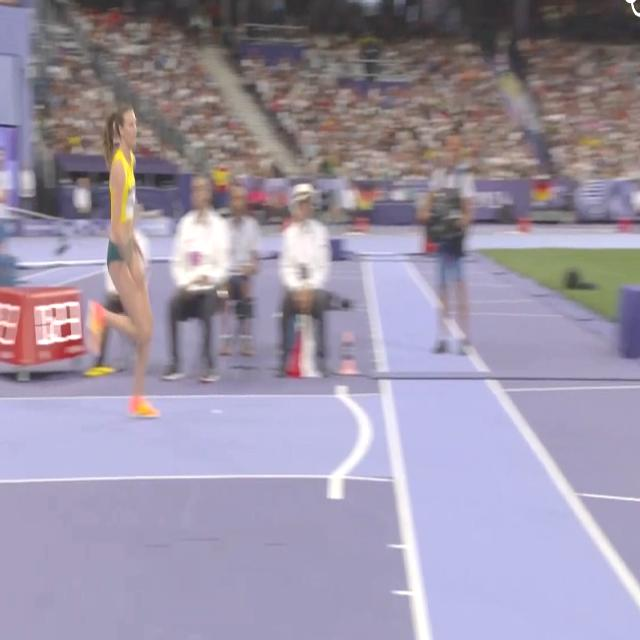run: (85, 104, 164, 424)
